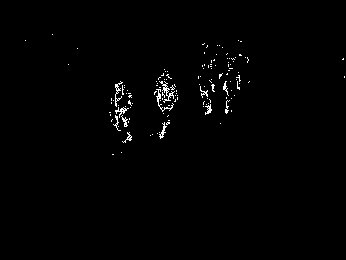person: (154, 72, 178, 139), (110, 82, 133, 143), (219, 59, 242, 115), (195, 62, 215, 115)
